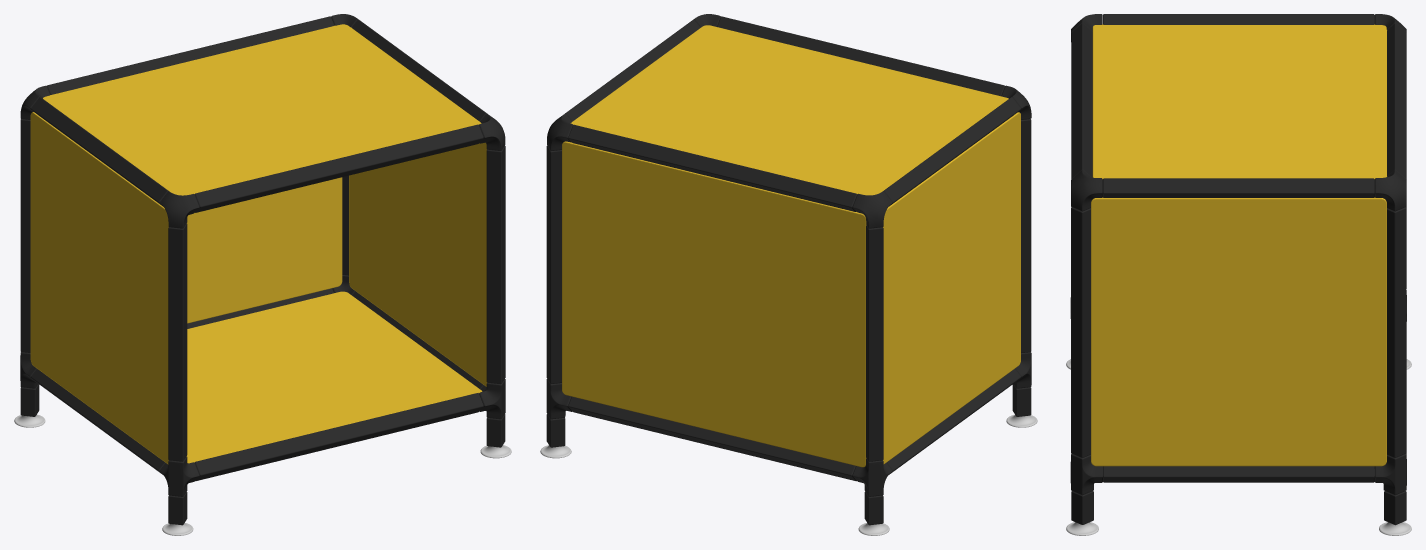
The picture shows the model from 3 angles, left to right: view 1: azimuth 30°, elevation 25°; view 2: azimuth 150°, elevation 25°; view 3: azimuth 270°, elevation 25°; orthographic projection. The views are drawn at different scales.
Visible parts, largest first — view 1: 420x329x330; view 2: 420x329x330; view 3: 420x329x330.
Boxes of the visible parts, box(x1,y1,x2,y2) form: 420x329x330: box(14, 14, 511, 535); 420x329x330: box(540, 14, 1037, 535); 420x329x330: box(1066, 14, 1411, 535).
Size of the model in its own units: 0.5099 by 0.4683 by 0.4182.
